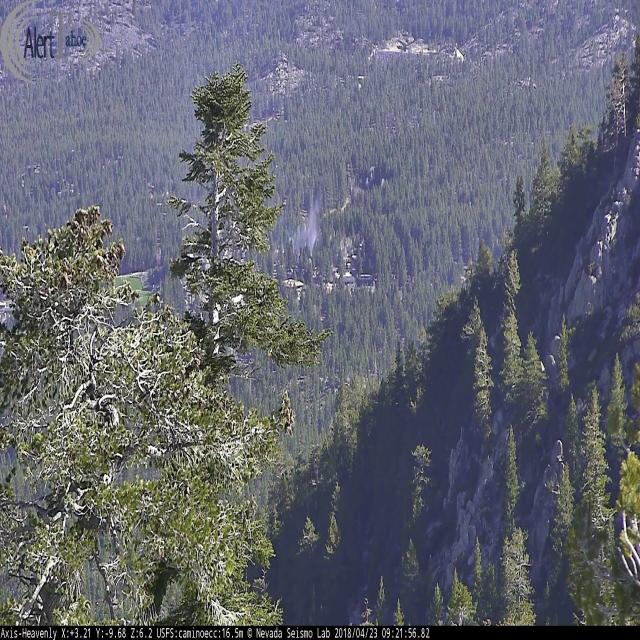smoke: (289, 186, 328, 257)
